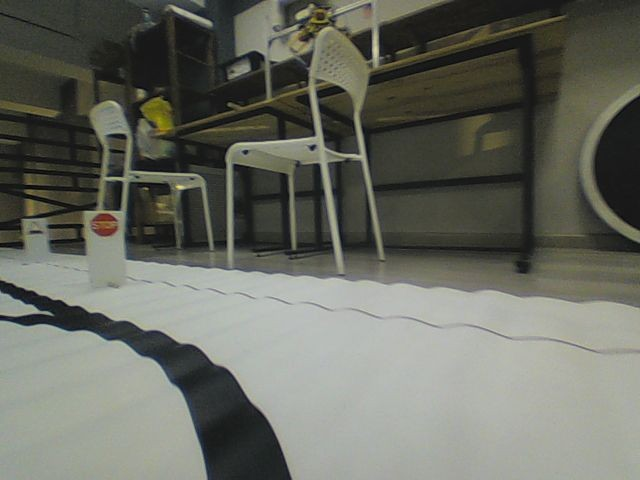Stop: (88, 212, 120, 238)
